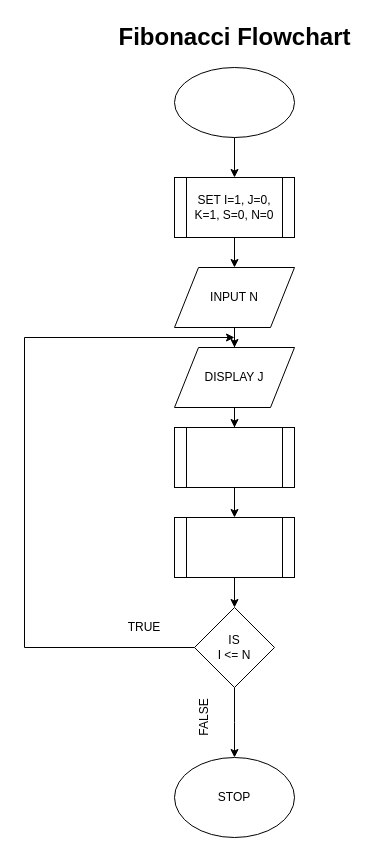
Image size: 368x855. Some labels were removed from this diagram. Here are the shapes that lost their labels. From the top down, the box of each, then its label:
(174, 66, 294, 138): START
(174, 426, 294, 488): S=J+K, J=K, K=S
(174, 516, 294, 578): I += 1
